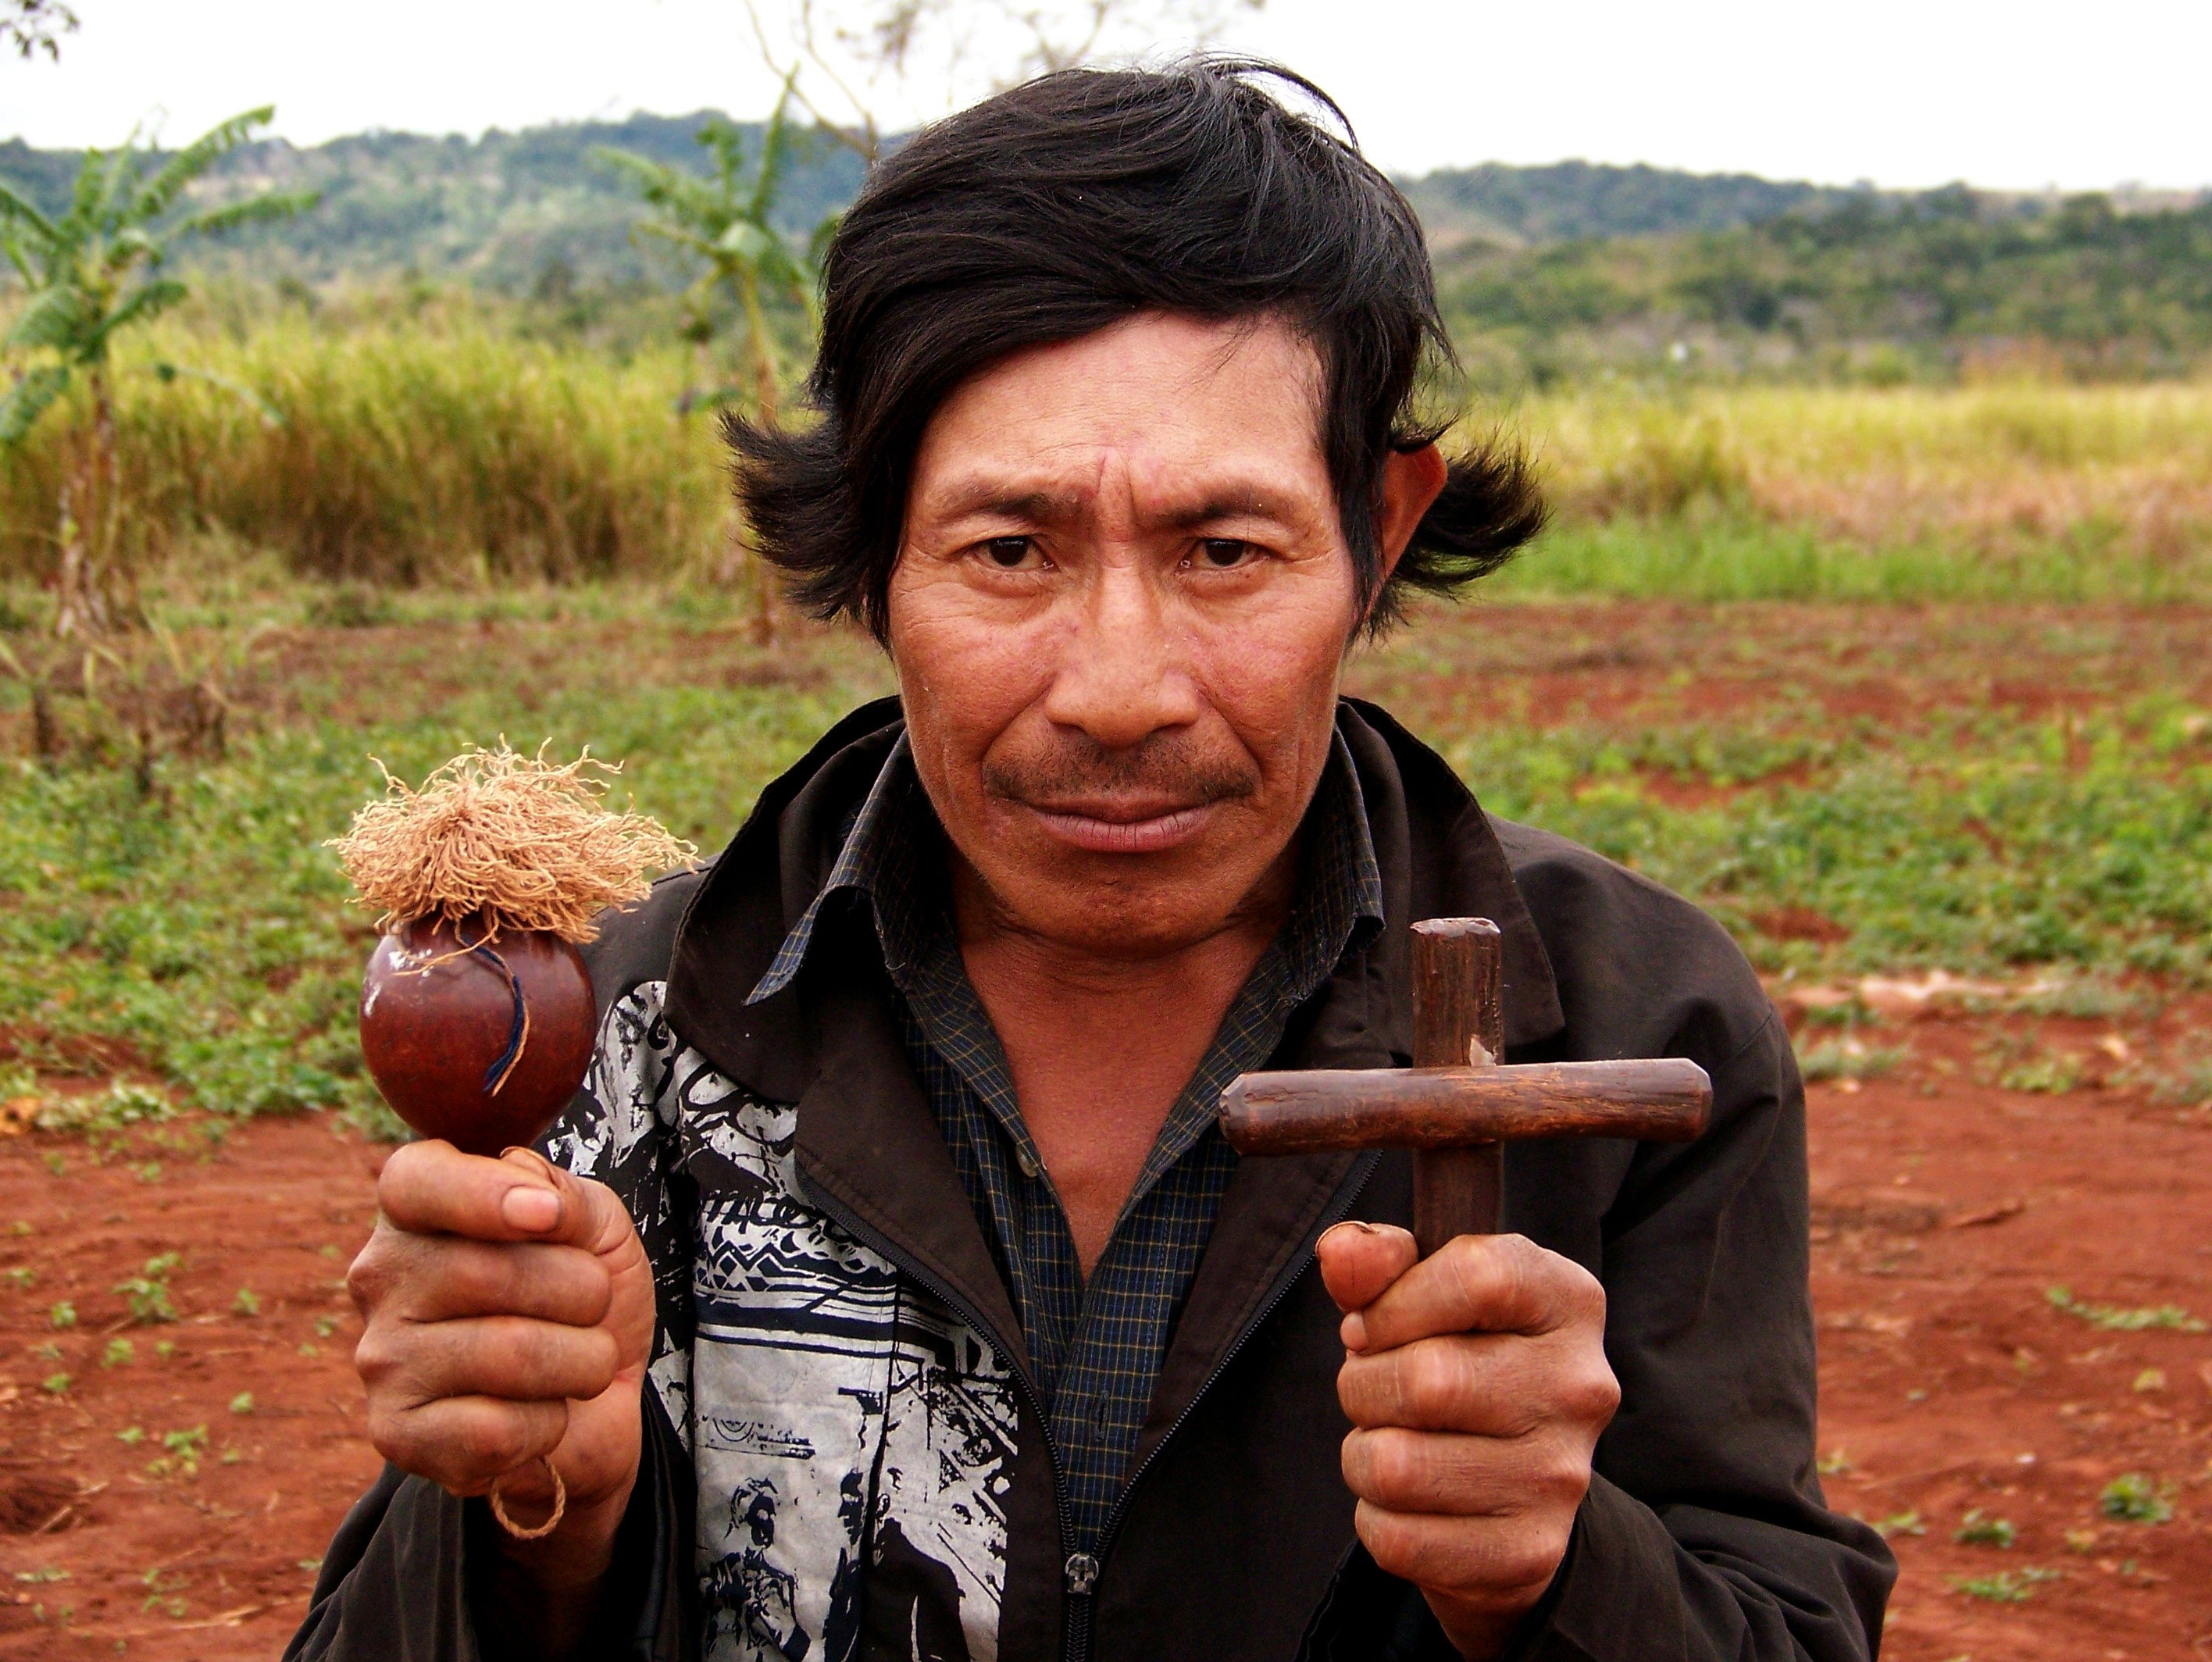face_no_mask: (794, 87, 1456, 949)
